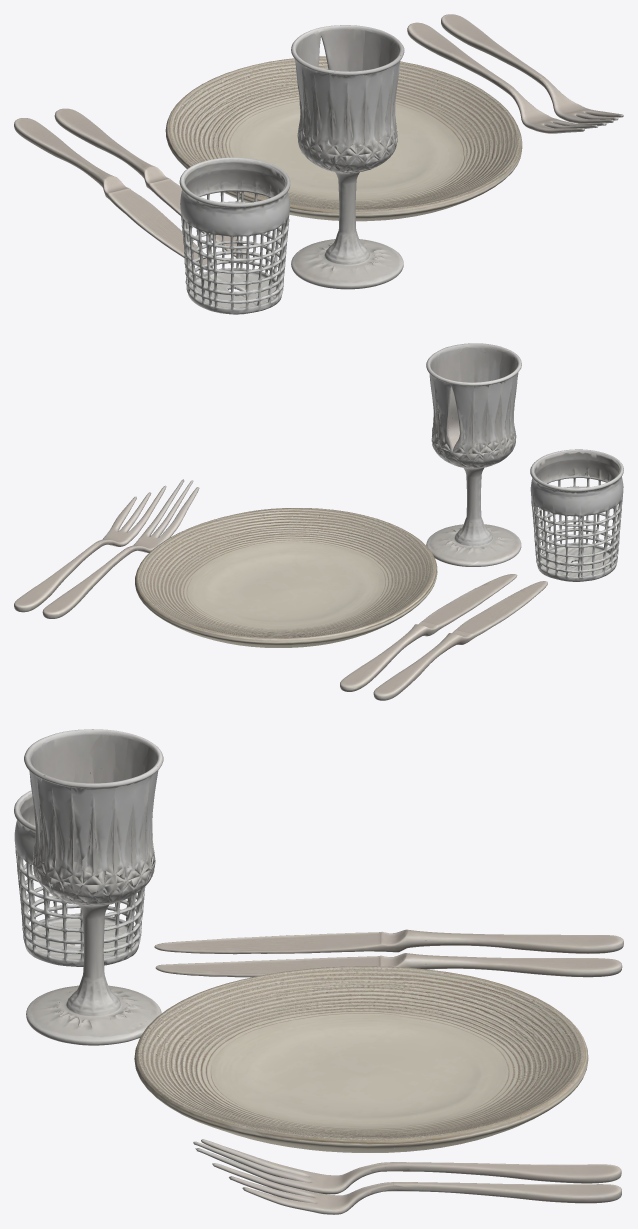
Rendered from decor-place-setting-segmented.glb.
3 renders of one model, top to bottom at view 1: azimuth 30°, elevation 25°; view 2: azimuth 150°, elevation 25°; view 3: azimuth 270°, elevation 25°, orthographic. The views are drawn at different scales.
Visible parts, largest first — view 1: tripo_part_0, tripo_part_2, tripo_part_5, tripo_part_1, tripo_part_3, tripo_part_9, tripo_part_8, tripo_part_4, tripo_part_17, tripo_part_6, tripo_part_20, tripo_part_11 (+13 smaller); view 2: tripo_part_0, tripo_part_5, tripo_part_2, tripo_part_1, tripo_part_3, tripo_part_4, tripo_part_9, tripo_part_12, tripo_part_7, tripo_part_11, tripo_part_6, tripo_part_18 (+10 smaller); view 3: tripo_part_0, tripo_part_5, tripo_part_1, tripo_part_3, tripo_part_4, tripo_part_9, tripo_part_6, tripo_part_20, tripo_part_7, tripo_part_8, tripo_part_18, tripo_part_17 (+10 smaller).
Boxes of the visible parts, x1=… form: tripo_part_0: x1=178, y1=63, x2=509, y2=208; tripo_part_2: x1=179, y1=157, x2=290, y2=272; tripo_part_5: x1=165, y1=56, x2=522, y2=219; tripo_part_1: x1=291, y1=138, x2=403, y2=289; tripo_part_3: x1=14, y1=118, x2=213, y2=270; tripo_part_9: x1=320, y1=25, x2=404, y2=158; tripo_part_8: x1=291, y1=44, x2=370, y2=160; tripo_part_4: x1=54, y1=108, x2=249, y2=258; tripo_part_17: x1=186, y1=260, x2=283, y2=314; tripo_part_6: x1=441, y1=14, x2=545, y2=81; tripo_part_20: x1=407, y1=22, x2=504, y2=87; tripo_part_11: x1=181, y1=187, x2=285, y2=290; tripo_part_0: x1=145, y1=512, x2=426, y2=637; tripo_part_5: x1=135, y1=508, x2=437, y2=645; tripo_part_2: x1=530, y1=449, x2=623, y2=530; tripo_part_1: x1=426, y1=467, x2=521, y2=566; tripo_part_3: x1=373, y1=581, x2=547, y2=700; tripo_part_4: x1=340, y1=574, x2=517, y2=691; tripo_part_9: x1=426, y1=343, x2=511, y2=453; tripo_part_12: x1=431, y1=379, x2=492, y2=466; tripo_part_7: x1=132, y1=479, x2=199, y2=552; tripo_part_11: x1=532, y1=480, x2=620, y2=574; tripo_part_6: x1=14, y1=542, x2=100, y2=612; tripo_part_18: x1=102, y1=485, x2=166, y2=546; tripo_part_0: x1=150, y1=974, x2=574, y2=1137; tripo_part_5: x1=134, y1=966, x2=588, y2=1148; tripo_part_1: x1=26, y1=863, x2=161, y2=1045; tripo_part_3: x1=154, y1=929, x2=623, y2=954; tripo_part_4: x1=155, y1=953, x2=622, y2=977; tripo_part_9: x1=24, y1=745, x2=163, y2=887; tripo_part_6: x1=391, y1=1182, x2=621, y2=1203; tripo_part_20: x1=402, y1=1162, x2=621, y2=1183; tripo_part_7: x1=193, y1=1139, x2=375, y2=1194; tripo_part_8: x1=30, y1=729, x2=134, y2=783; tripo_part_18: x1=212, y1=1163, x2=375, y2=1214; tripo_part_17: x1=23, y1=905, x2=141, y2=966.
Size of the model in its own units: 0.45 by 0.1873 by 0.3914.
Materials: 81 (81 with a texture image).
